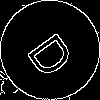D: (25, 25, 84, 81)
